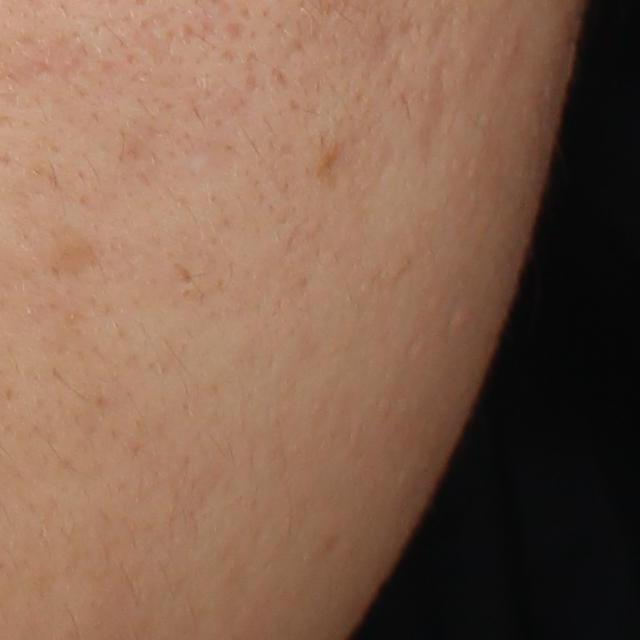atrophic_scar: (418, 58, 452, 161)
